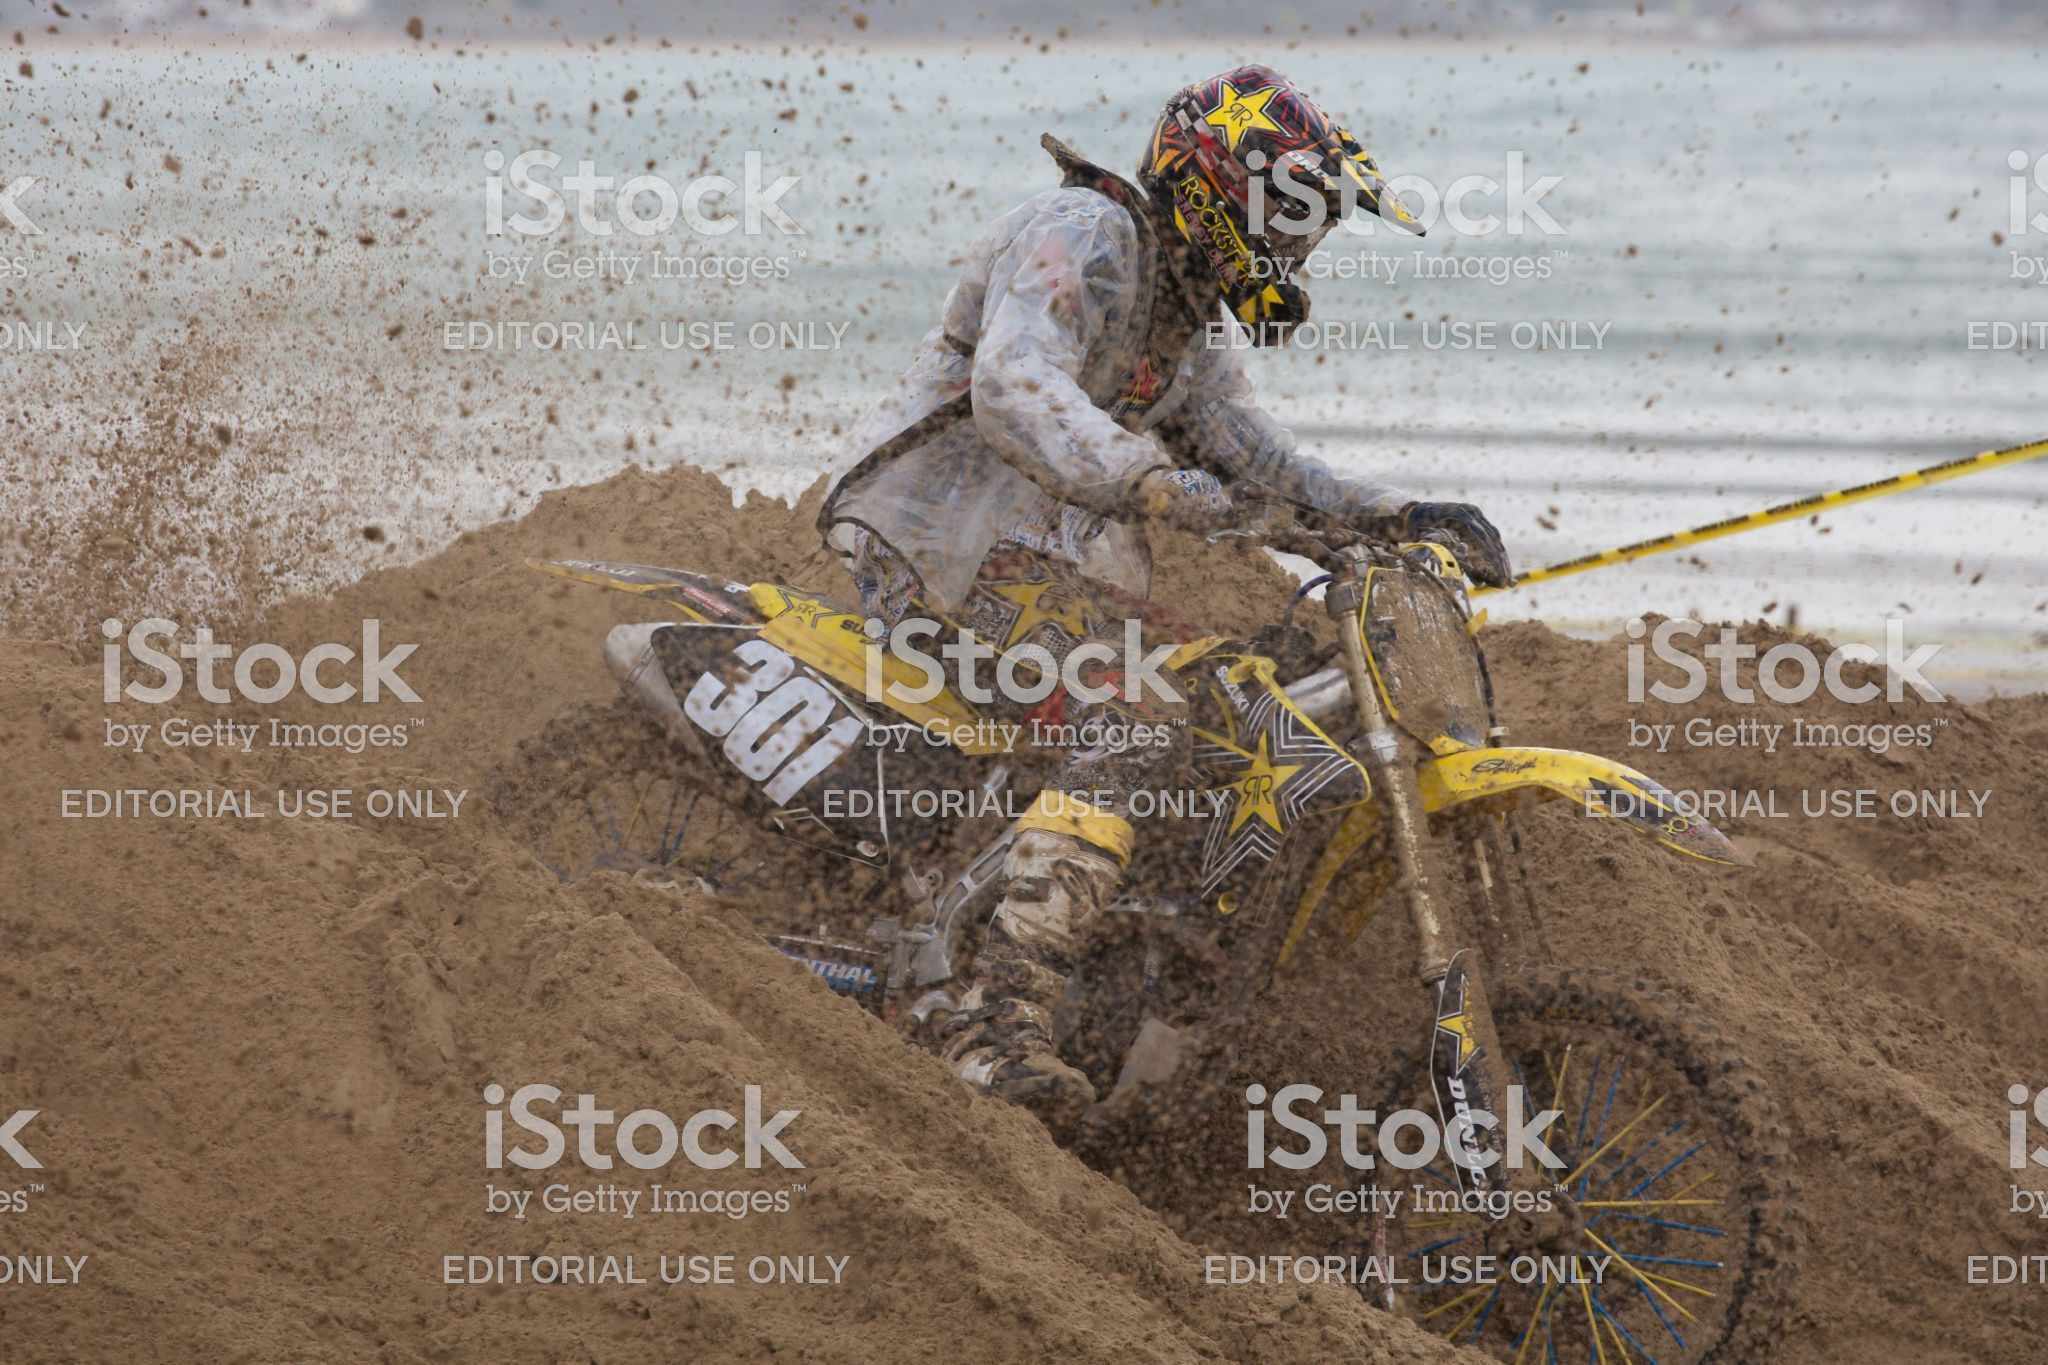helmet: (1134, 62, 1405, 352)
